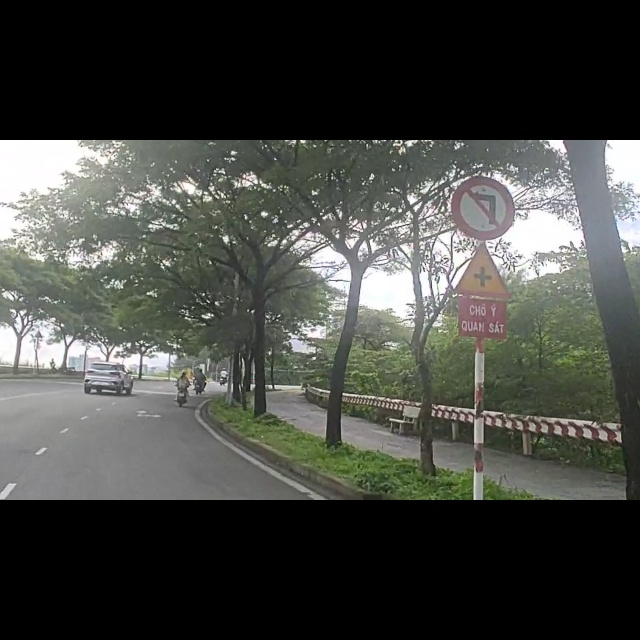bien_cam: (449, 59, 526, 178), (445, 181, 528, 284)
